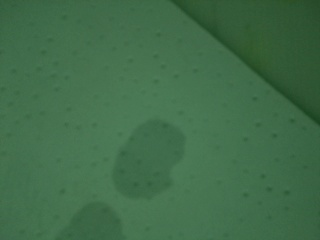Water_detected: (60, 122, 178, 240)
